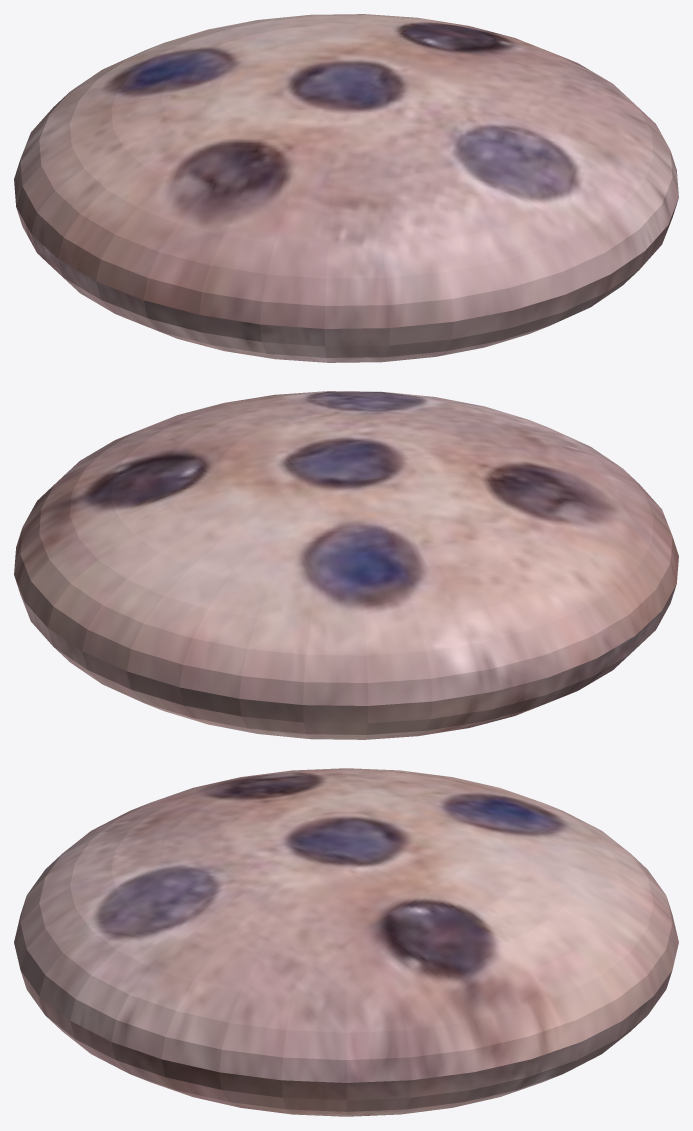
The model's file is piece.gltf.
3 renders of one model, top to bottom at view 1: azimuth 30°, elevation 25°; view 2: azimuth 150°, elevation 25°; view 3: azimuth 270°, elevation 25°, orthographic.
Parts seen in each view (by area): view 1: Sphere; view 2: Sphere; view 3: Sphere.
Part boxes in pixels (left/top/right/bottom): Sphere: left=14, top=14, right=678, bottom=362; Sphere: left=14, top=391, right=678, bottom=739; Sphere: left=14, top=768, right=678, bottom=1116.
Bounding box in the file's own units: 2 × 0.6866 × 2.
2 materials, 2 textured.
